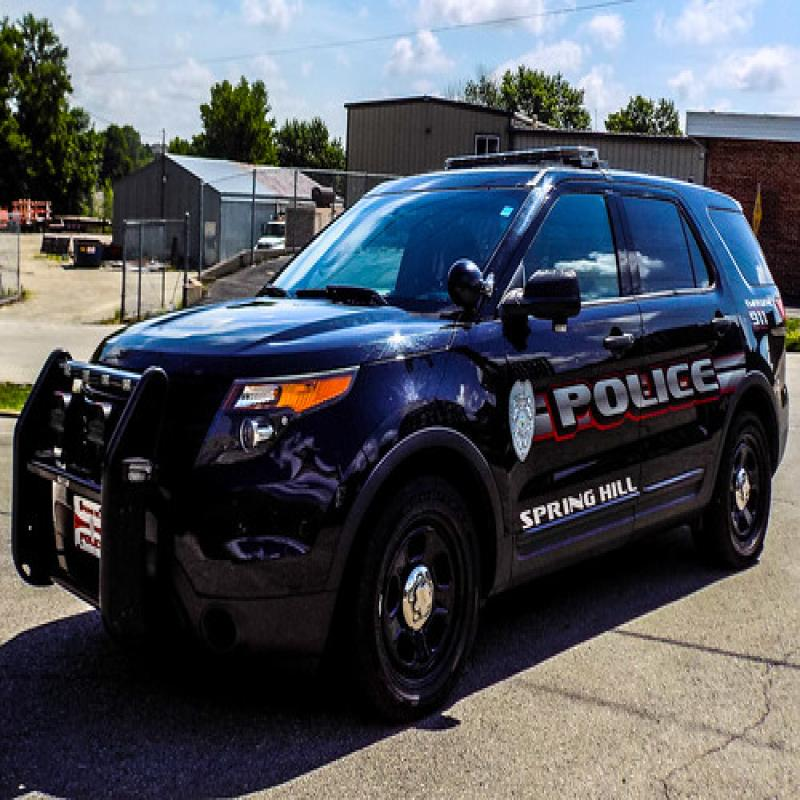AmbulanceSiren: (411, 118, 600, 189)
